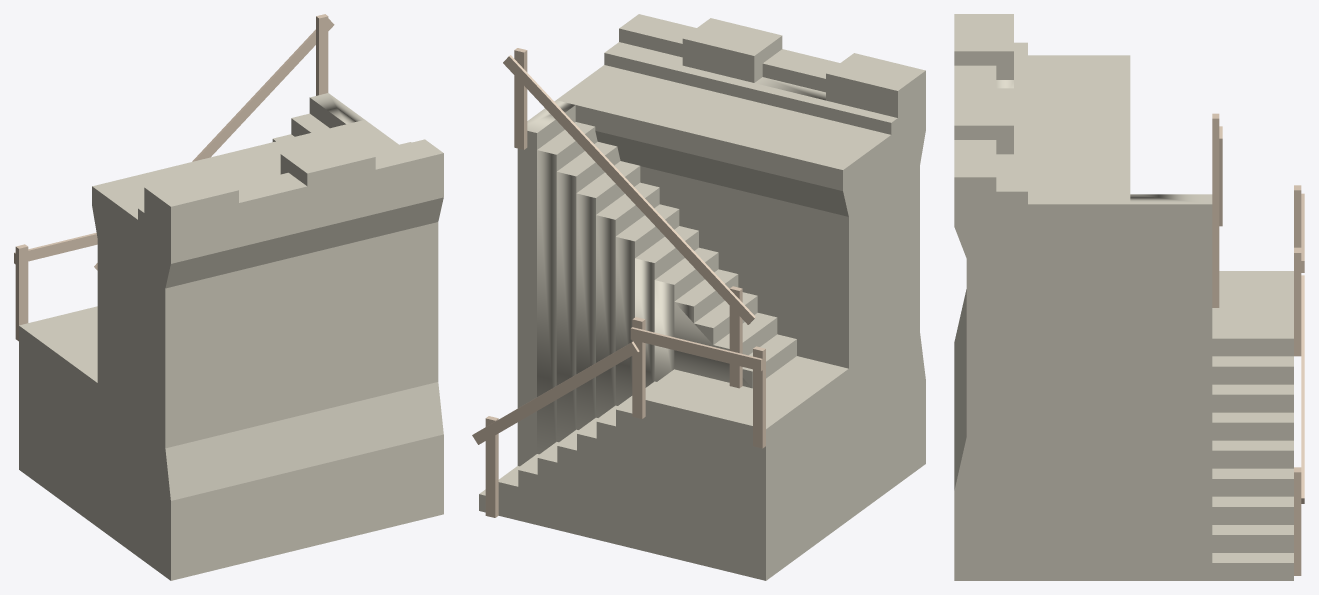
The model's file is wallNarrowStairsFence.fbx.
The picture shows the model from 3 angles, left to right: view 1: azimuth 30°, elevation 25°; view 2: azimuth 150°, elevation 25°; view 3: azimuth 270°, elevation 25°; orthographic projection. The views are drawn at different scales.
Parts seen in each view (by area): view 1: wallNarrowStairsFence, rail 13; view 2: wallNarrowStairsFence, rail 13; view 3: wallNarrowStairsFence, rail 13.
Boxes of the visible parts, box(x1,y1,x2,y2) form: wallNarrowStairsFence: box(19, 93, 443, 580); rail 13: box(14, 14, 334, 341); wallNarrowStairsFence: box(479, 14, 925, 580); rail 13: box(472, 48, 765, 517); wallNarrowStairsFence: box(954, 14, 1293, 580); rail 13: box(1212, 113, 1304, 575).
Size of the model in its own units: 310 by 434 by 299.
